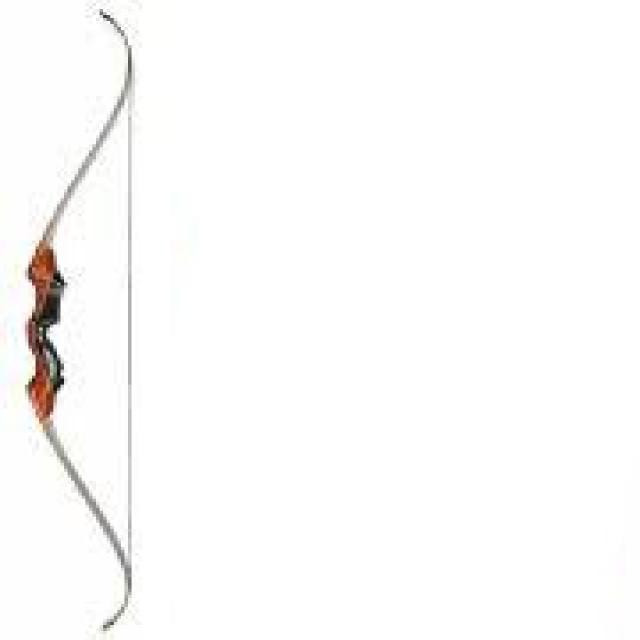X-Bow: (21, 4, 136, 632)
